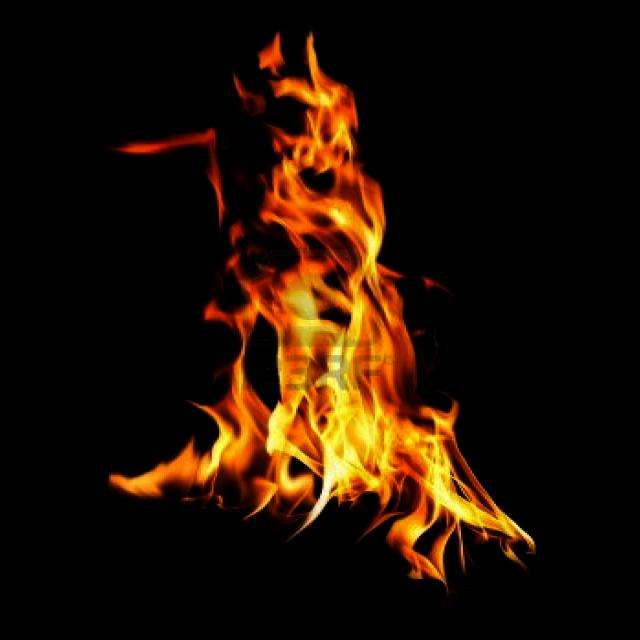Fire: (80, 14, 566, 600)
